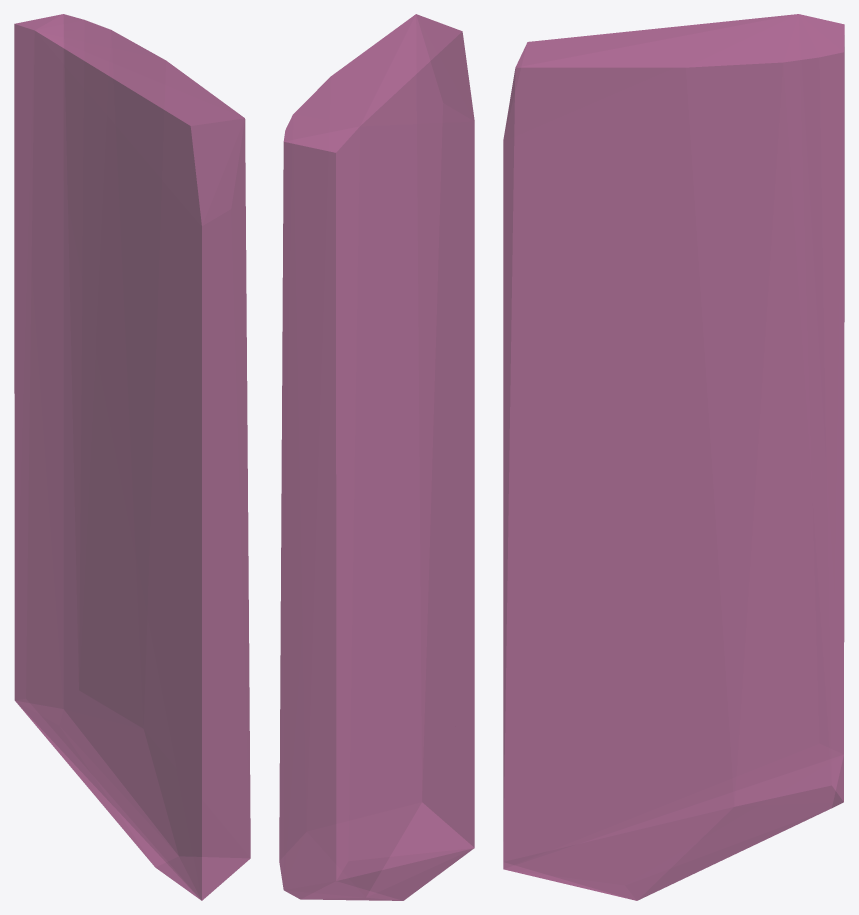
The picture shows the model from 3 angles, left to right: view 1: azimuth 30°, elevation 25°; view 2: azimuth 150°, elevation 25°; view 3: azimuth 270°, elevation 25°; orthographic projection. The views are drawn at different scales.
Visible parts, largest first — view 1: Shape_IndexedFaceSet.007_Shape_IndexedFaceSet.605; view 2: Shape_IndexedFaceSet.007_Shape_IndexedFaceSet.605; view 3: Shape_IndexedFaceSet.007_Shape_IndexedFaceSet.605.
Boxes of the visible parts, bbox=[...] form: Shape_IndexedFaceSet.007_Shape_IndexedFaceSet.605: bbox=[14, 14, 250, 900]; Shape_IndexedFaceSet.007_Shape_IndexedFaceSet.605: bbox=[279, 14, 474, 900]; Shape_IndexedFaceSet.007_Shape_IndexedFaceSet.605: bbox=[503, 14, 844, 900].
Bounding box in the file's own units: 0.0151 × 0.1436 × 0.0523.
